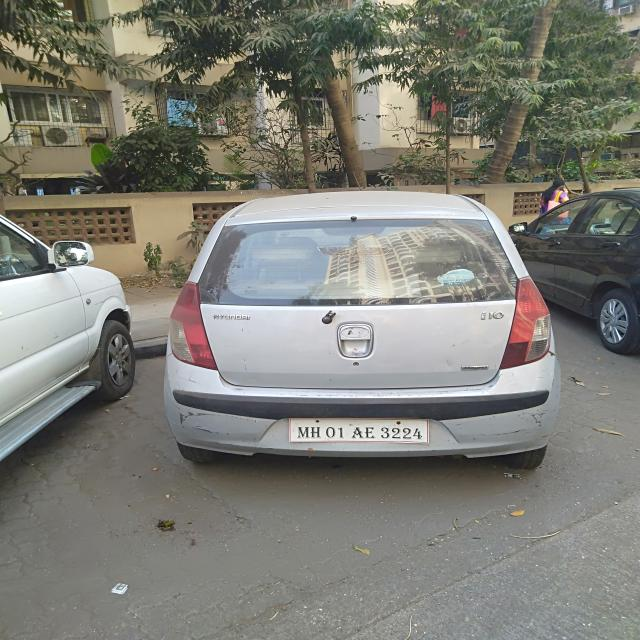Number-Plate: (297, 418, 427, 444)
